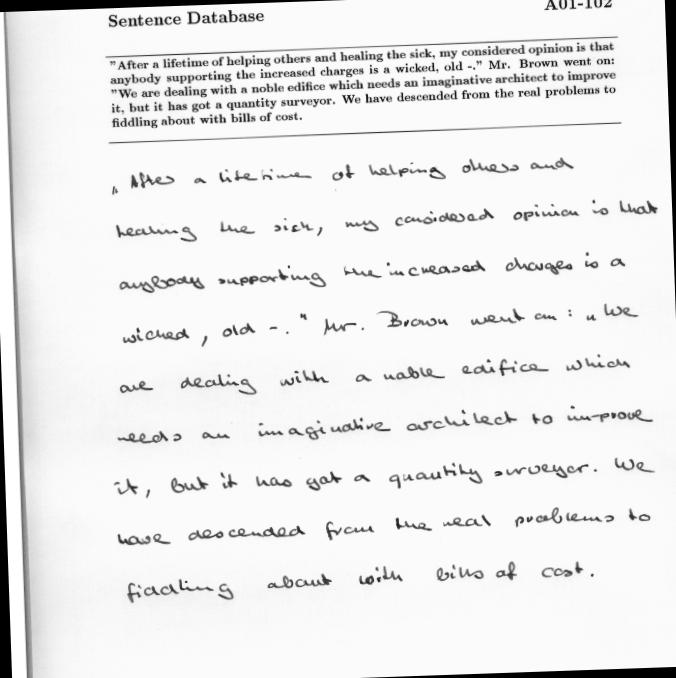text: (111, 193, 662, 246), (117, 297, 642, 352), (115, 348, 635, 401), (110, 452, 658, 502), (113, 500, 652, 550), (114, 246, 630, 298), (112, 398, 656, 447), (121, 556, 597, 606), (109, 152, 578, 195), (104, 50, 618, 88), (108, 80, 616, 118), (106, 36, 616, 72), (106, 66, 616, 100), (109, 108, 304, 132), (103, 8, 265, 30), (542, 0, 615, 13)
